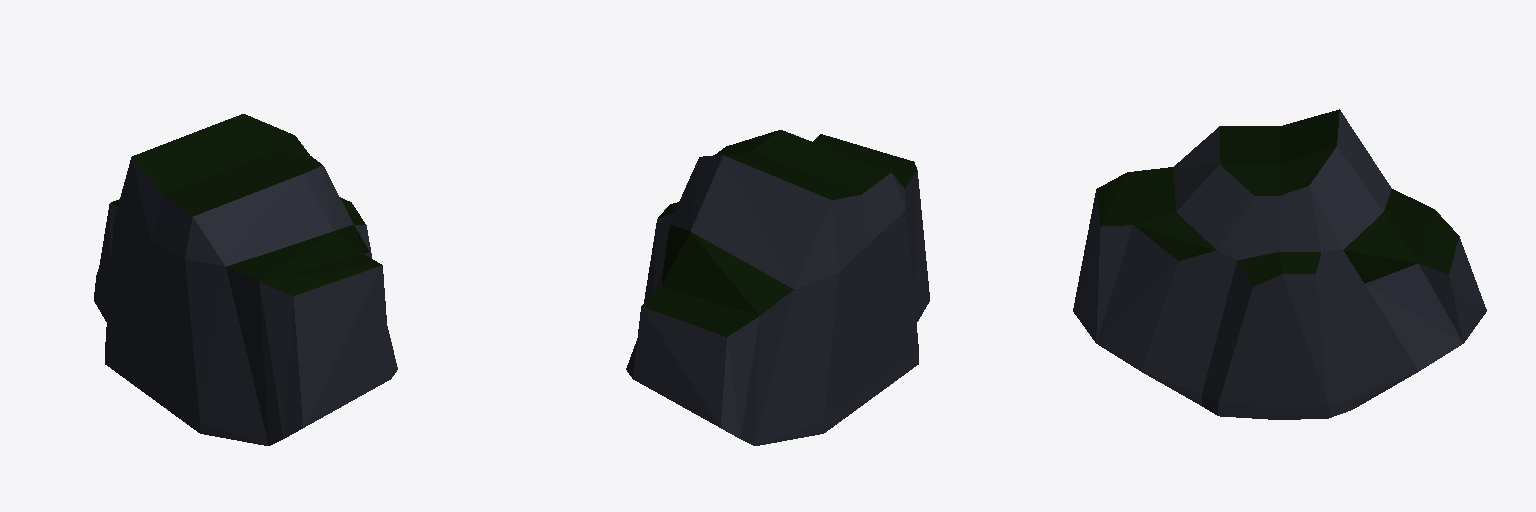
Rendered from Rock_Moss_4.obj.
The picture shows the model from 3 angles: view 1: azimuth 30°, elevation 25°; view 2: azimuth 150°, elevation 25°; view 3: azimuth 270°, elevation 25°; orthographic projection.
Visible parts, largest first — view 1: Rock_Moss_4_Cube.023; view 2: Rock_Moss_4_Cube.023; view 3: Rock_Moss_4_Cube.023.
Boxes of the visible parts, x1,y1,x2,y2 form: Rock_Moss_4_Cube.023: [94, 114, 397, 445]; Rock_Moss_4_Cube.023: [626, 130, 929, 445]; Rock_Moss_4_Cube.023: [1073, 109, 1486, 419].
Size of the model in its own units: 0.7436 by 0.7836 by 1.25.